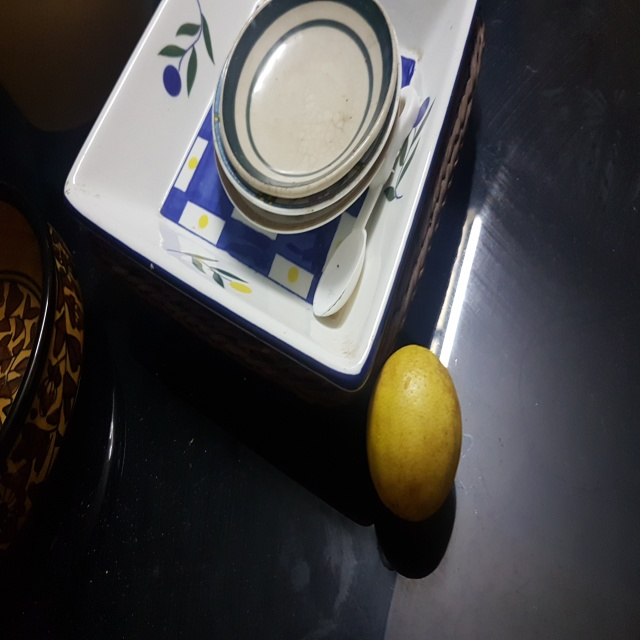lemon: (352, 338, 475, 518)
